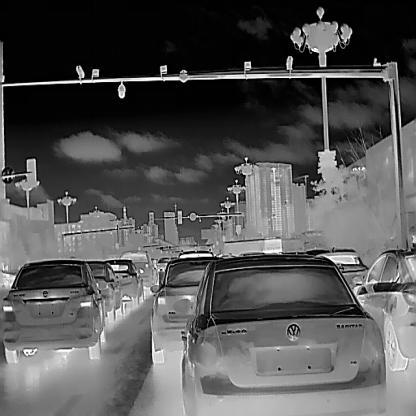car: (180, 254, 386, 415), (1, 258, 105, 364), (148, 255, 235, 365), (355, 248, 416, 373), (84, 260, 122, 323), (316, 249, 368, 287), (105, 258, 143, 308), (119, 250, 158, 288), (223, 237, 282, 255), (0, 268, 16, 289), (155, 256, 170, 272)
